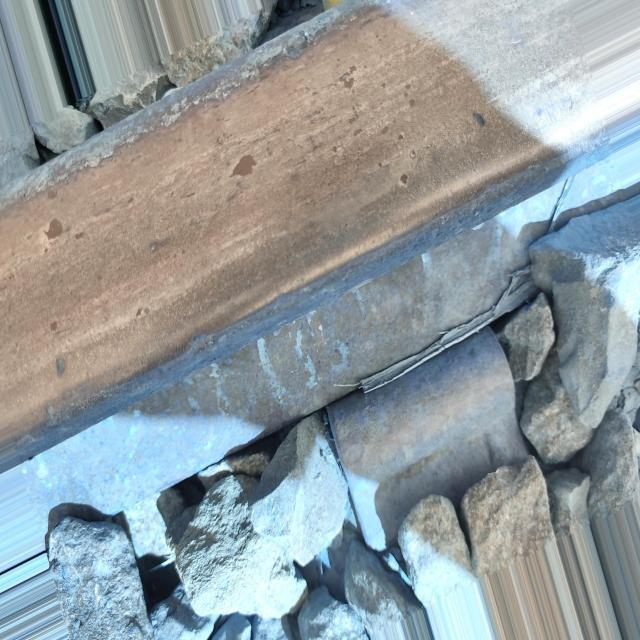broken_rail_medium: (231, 150, 258, 184), (403, 81, 422, 115), (341, 64, 359, 96), (52, 350, 68, 380), (46, 218, 66, 241), (471, 106, 487, 134), (398, 171, 410, 189)
